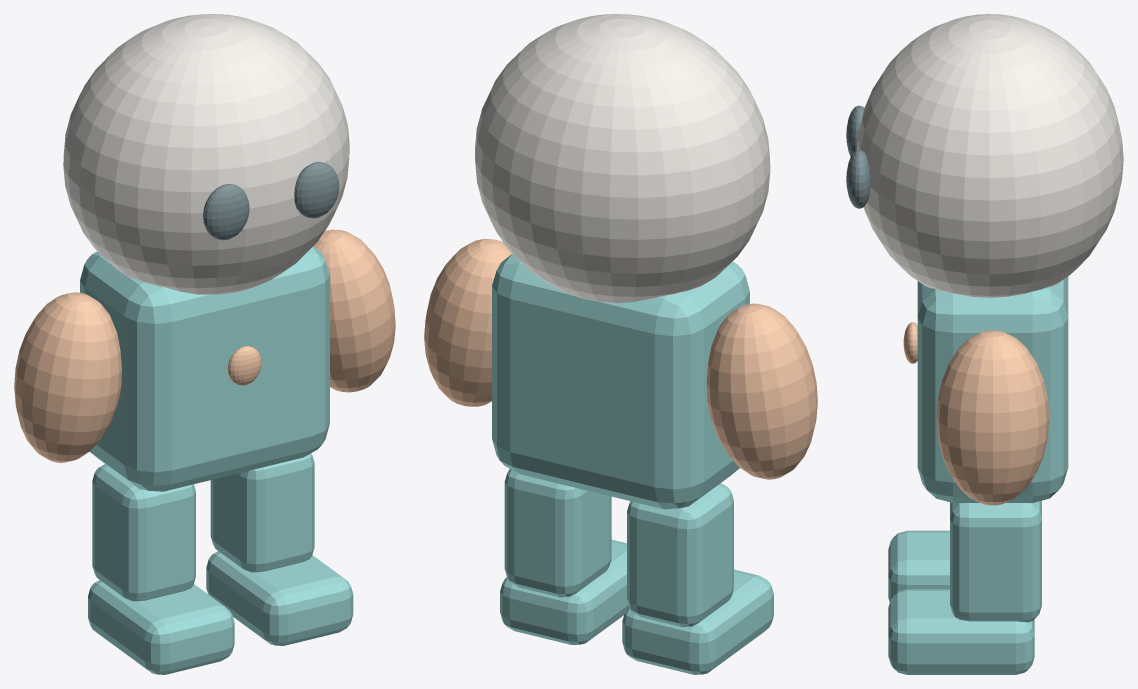
The picture shows the model from 3 angles, left to right: view 1: azimuth 30°, elevation 25°; view 2: azimuth 150°, elevation 25°; view 3: azimuth 270°, elevation 25°; orthographic projection. The views are drawn at different scales.
Parts seen in each view (by area): view 1: Large faceted ivory round head, Rounded turquoise torso, Right peach oval arm, Right short leg, Left short leg, Right broad forward foot, Left broad forward foot, Left peach oval arm, Right slate oval eye, Left slate oval eye, Small peach chest button; view 2: Large faceted ivory round head, Rounded turquoise torso, Right peach oval arm, Right short leg, Left short leg, Left peach oval arm, Right broad forward foot, Left broad forward foot; view 3: Large faceted ivory round head, Rounded turquoise torso, Left peach oval arm, Left short leg, Left broad forward foot, Right broad forward foot, Left slate oval eye, Right slate oval eye, Small peach chest button.
Part boxes in pixels (x1=…): Large faceted ivory round head: x1=63, y1=14, x2=349, y2=294; Rounded turquoise torso: x1=80, y1=246, x2=329, y2=491; Right peach oval arm: x1=14, y1=292, x2=121, y2=462; Right short leg: x1=92, y1=464, x2=195, y2=601; Left short leg: x1=210, y1=453, x2=314, y2=572; Right broad forward foot: x1=88, y1=580, x2=234, y2=674; Left broad forward foot: x1=206, y1=551, x2=353, y2=645; Left peach oval arm: x1=313, y1=229, x2=395, y2=392; Right slate oval eye: x1=203, y1=184, x2=249, y2=240; Left slate oval eye: x1=294, y1=162, x2=339, y2=218; Small peach chest button: x1=227, y1=346, x2=261, y2=385; Large faceted ivory round head: x1=475, y1=14, x2=770, y2=302; Rounded turquoise torso: x1=492, y1=253, x2=749, y2=509; Right peach oval arm: x1=706, y1=303, x2=817, y2=479; Right short leg: x1=627, y1=483, x2=733, y2=627; Left short leg: x1=504, y1=469, x2=611, y2=597; Left peach oval arm: x1=424, y1=239, x2=511, y2=406; Right broad forward foot: x1=622, y1=569, x2=773, y2=674; Left broad forward foot: x1=500, y1=539, x2=628, y2=644; Large faceted ivory round head: x1=856, y1=14, x2=1123, y2=297; Rounded turquoise torso: x1=917, y1=277, x2=1068, y2=502; Left peach oval arm: x1=936, y1=330, x2=1049, y2=505; Left short leg: x1=950, y1=500, x2=1041, y2=622; Left broad forward foot: x1=888, y1=589, x2=1034, y2=674; Right broad forward foot: x1=888, y1=530, x2=949, y2=602; Left slate oval eye: x1=846, y1=150, x2=870, y2=208; Right slate oval eye: x1=846, y1=105, x2=864, y2=156; Small peach chest button: x1=903, y1=322, x2=917, y2=363.
Size of the model in its own units: 2.04 by 3.18 by 1.33.
